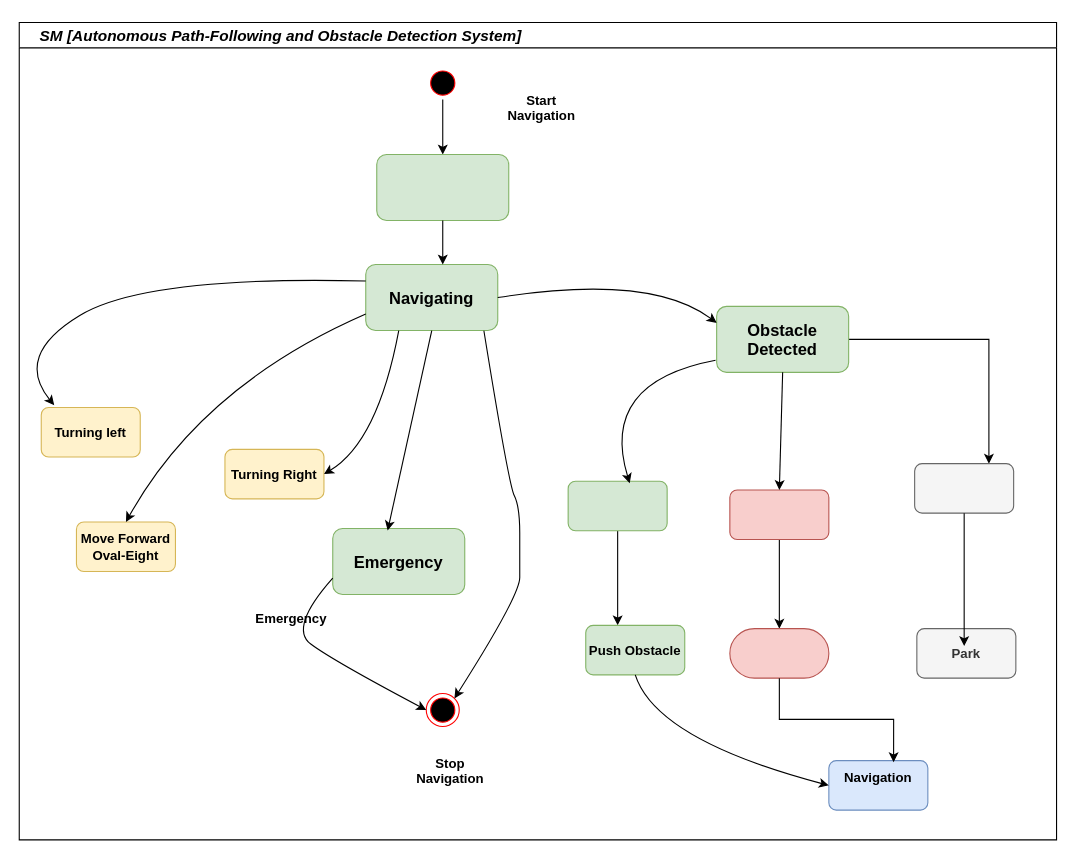
This 1076x859 diagram has some shape labels left out. The shapes that lost their labels are listed below. From the top down, each one's box as (x1, y1, x2, y2) in pixels, then its label:
(376, 153, 509, 221): lDLE
(567, 480, 667, 531): Green
(914, 463, 1014, 513): Colour not identified
(729, 489, 829, 540): Red
(729, 628, 829, 678): Avoid Obstacle
